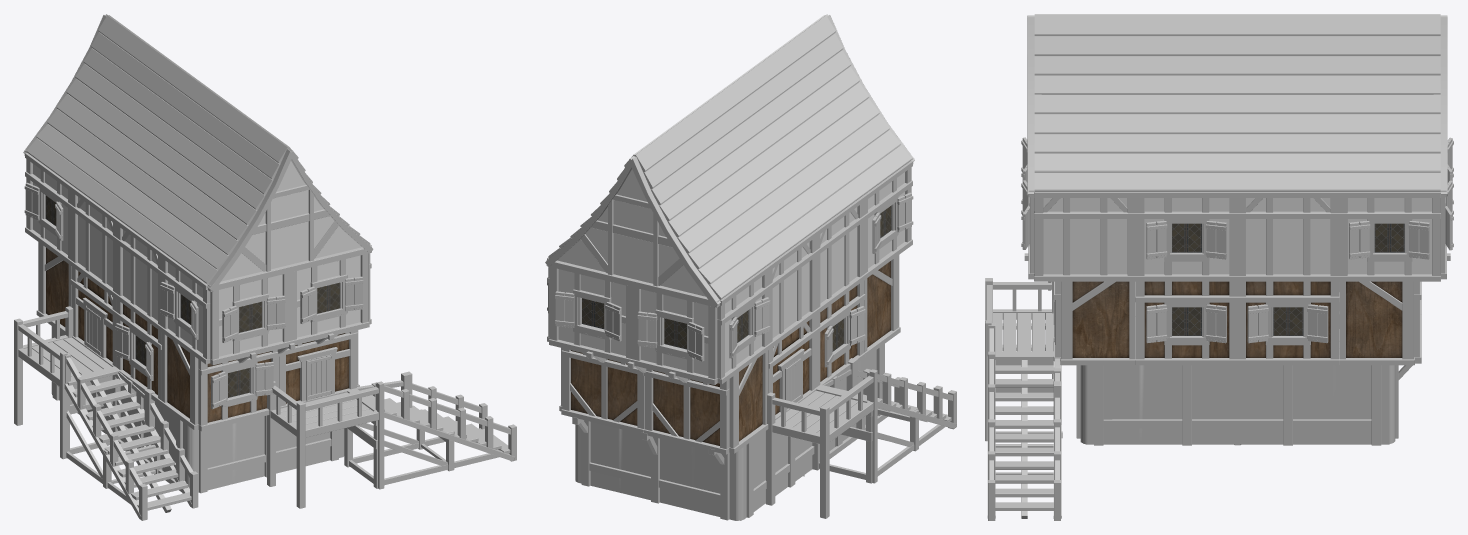
The model's file is House_1A7.fbx.
3 renders of one model, left to right at view 1: azimuth 30°, elevation 25°; view 2: azimuth 150°, elevation 25°; view 3: azimuth 270°, elevation 25°, orthographic. The views are drawn at different scales.
Visible parts, largest first — view 1: House_1A7, Cube.2373, Cube.2377, Plane.339, Plane.340; view 2: House_1A7, Plane.298, Plane.299, Cube.2377; view 3: House_1A7, Plane.381, Plane.378, Plane.380, Plane.379.
Boxes of the visible parts, x1,y1,x2,y2 form: House_1A7: (14, 14, 516, 520); Cube.2373: (306, 354, 331, 401); Cube.2377: (85, 305, 100, 355); Plane.339: (239, 301, 261, 332); Plane.340: (317, 282, 339, 313); House_1A7: (545, 14, 956, 520); Plane.298: (664, 318, 686, 349); Plane.299: (582, 298, 604, 329); Cube.2377: (785, 358, 800, 410); House_1A7: (985, 14, 1453, 520); Plane.381: (1374, 223, 1404, 252); Plane.378: (1172, 223, 1201, 252); Plane.380: (1273, 307, 1303, 335); Plane.379: (1172, 307, 1201, 335).
Bounding box in the file's own units: 1947 × 1879 × 2034.
